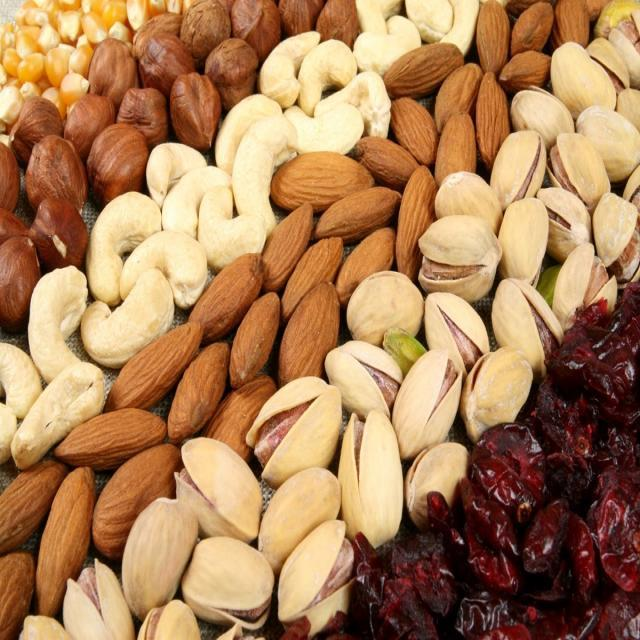Frutta secca: (8, 14, 625, 623)
